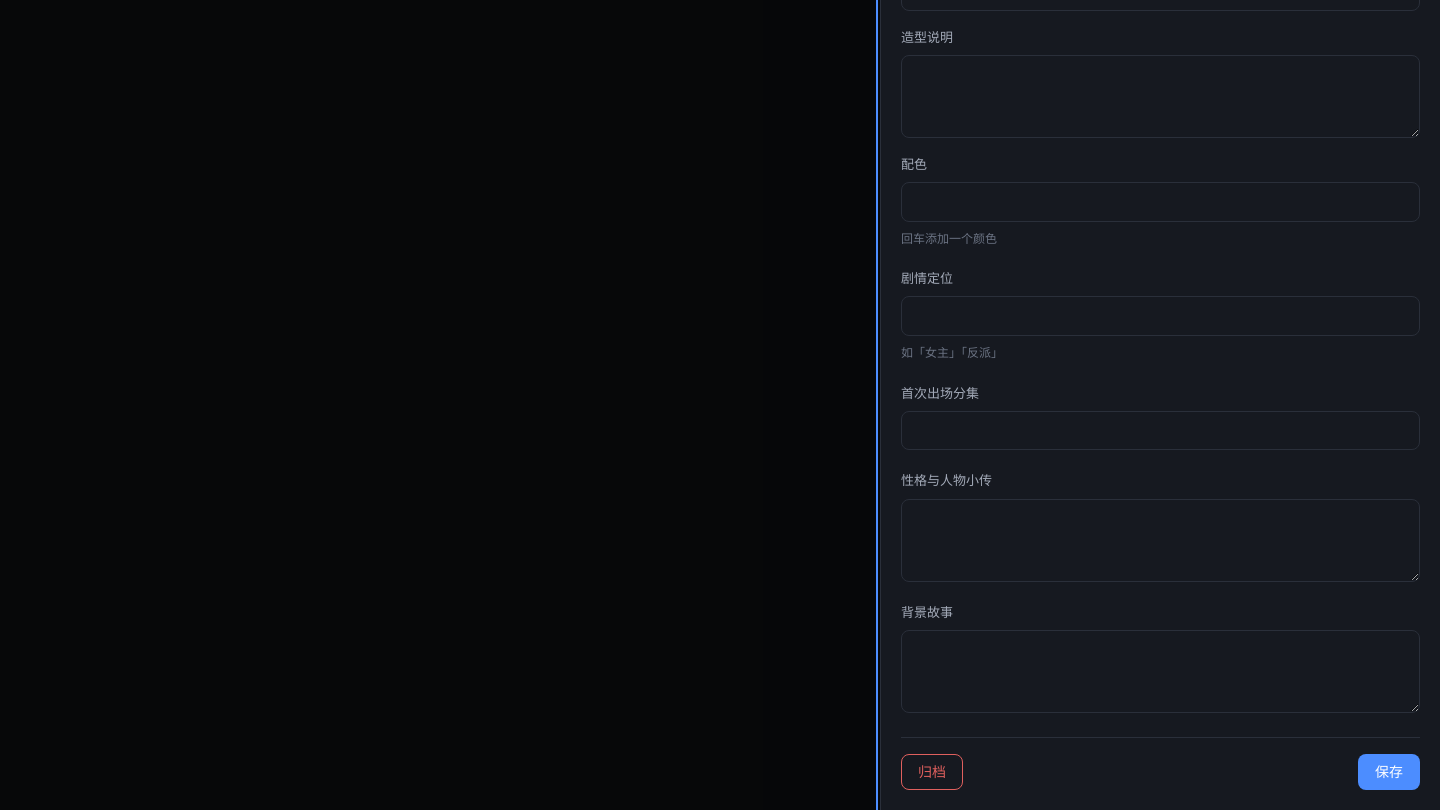
AssetDetailDrawer 的保存 › 什么都没改就点保存 → 不发请求（避免平白多一个版本号）
(page scrolled)
Click the button "保存" at {"x": 1389, "y": 772}, box x1=1358 y1=754 x2=1420 y2=790
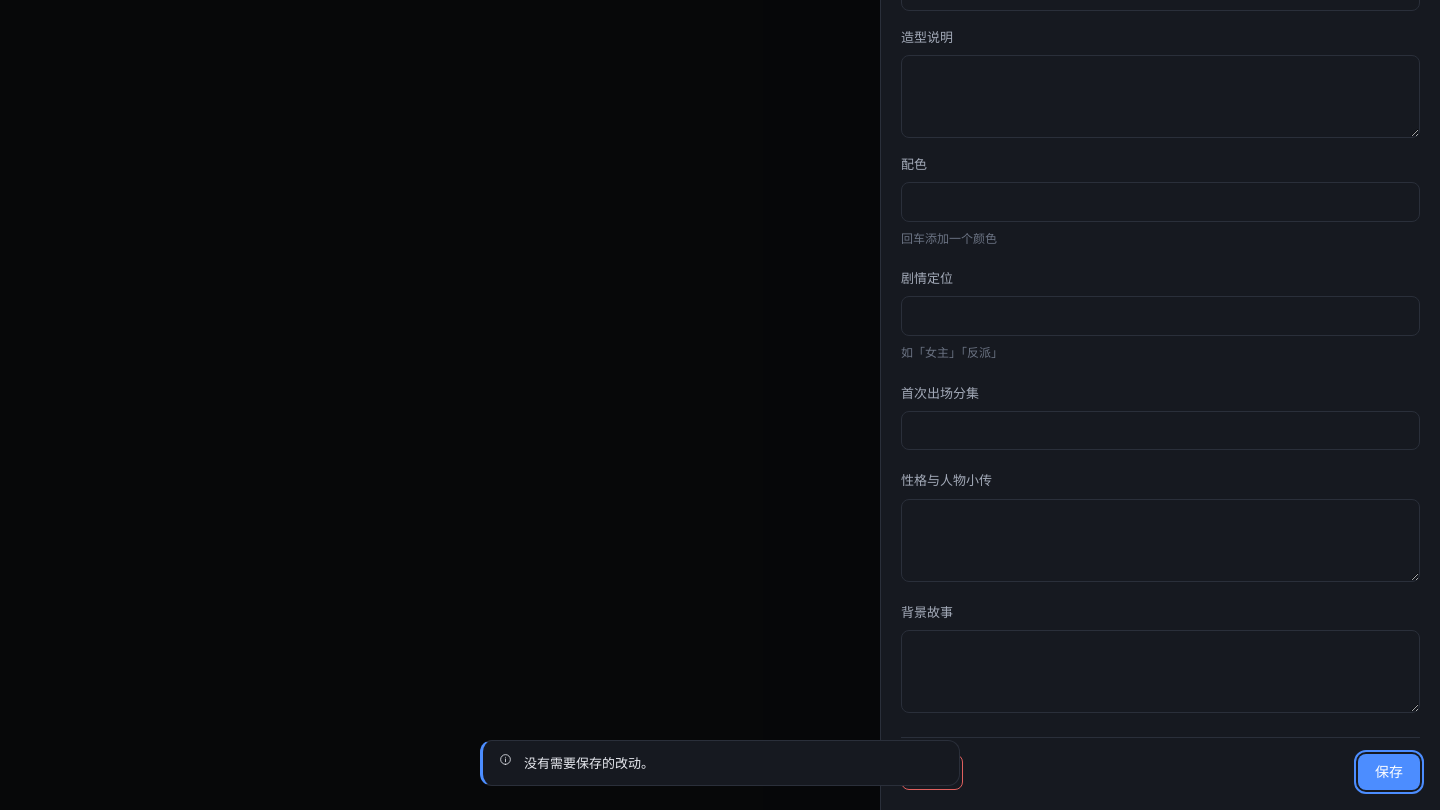
Expected: the text "没有需要保存的改动。" is shown, x1=524 y1=753 x2=654 y2=773
